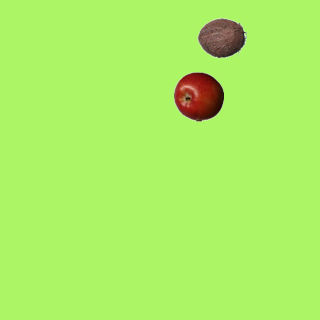Apple Braeburn: (173, 71, 223, 121)
Cocos: (196, 12, 246, 62)
